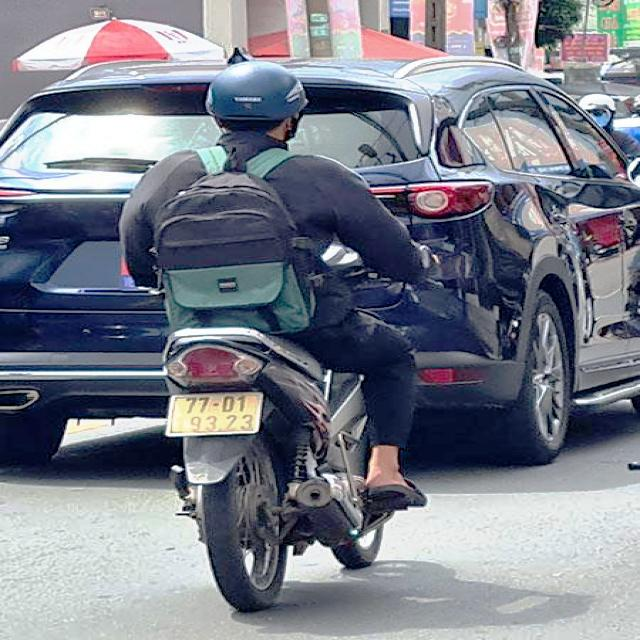license_plate: (170, 390, 266, 438)
